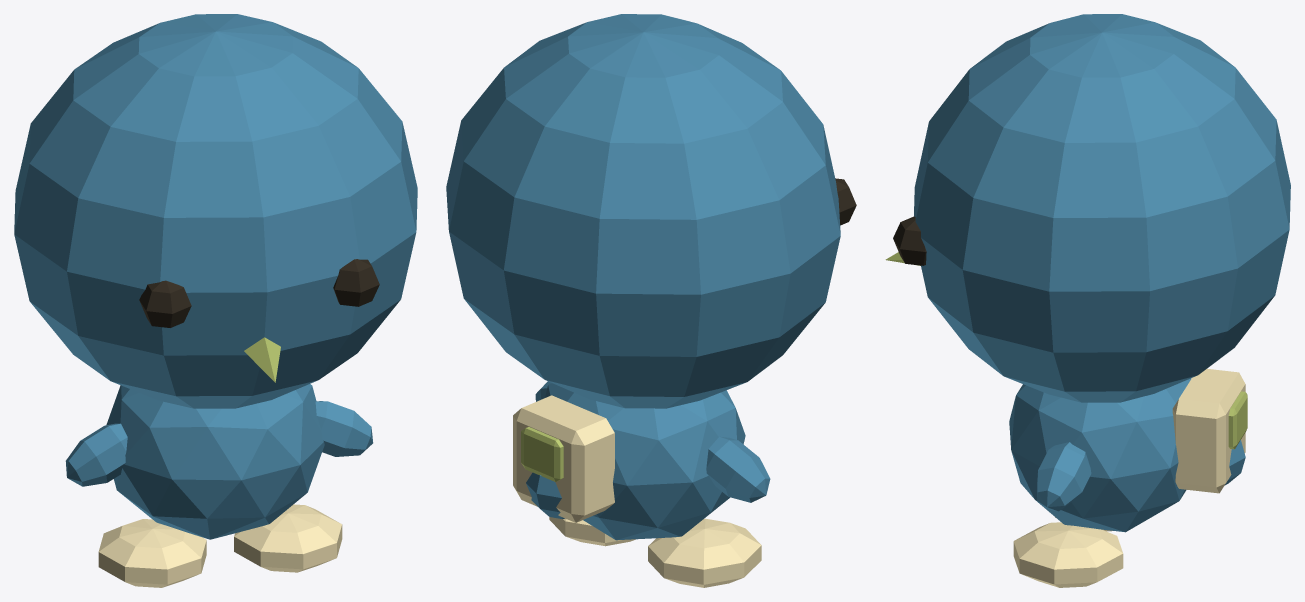
The model's file is biped-sand-2.glb.
The picture shows the model from 3 angles, left to right: view 1: azimuth 30°, elevation 25°; view 2: azimuth 150°, elevation 25°; view 3: azimuth 270°, elevation 25°; orthographic projection. The views are drawn at different scales.
Visible parts, largest first — view 1: biped-sand-2; view 2: biped-sand-2; view 3: biped-sand-2.
Boxes of the visible parts, x1,y1,x2,y2 form: biped-sand-2: [14, 14, 417, 587]; biped-sand-2: [446, 14, 856, 587]; biped-sand-2: [885, 14, 1290, 587].
Bounding box in the file's own units: 0.6189 × 0.9 × 0.6366.
